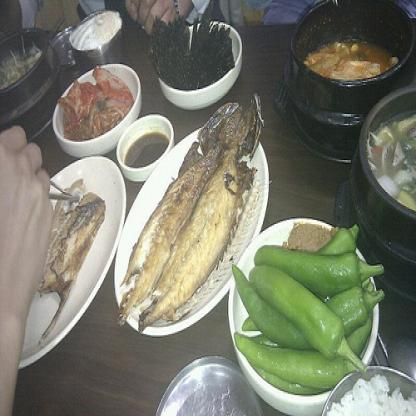Peixe: (114, 78, 270, 336), (28, 176, 105, 314)
